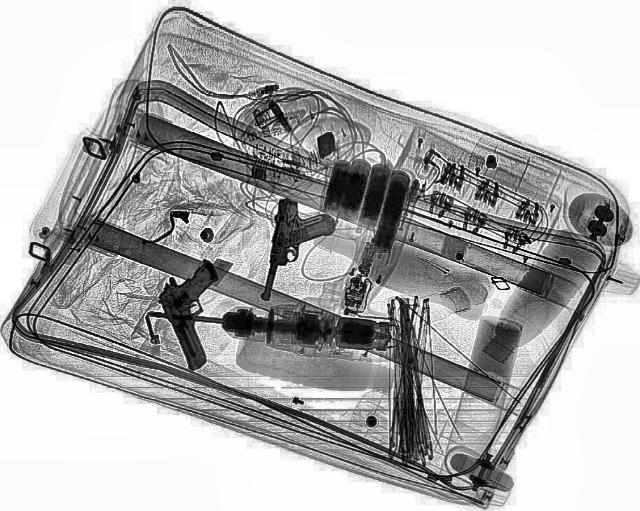Gun: (142, 260, 258, 370), (252, 196, 338, 308)
